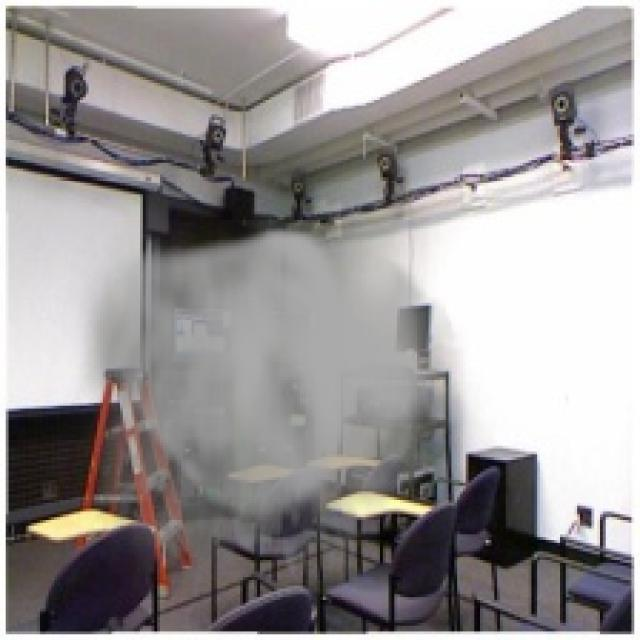Smoke: (63, 220, 460, 623)
